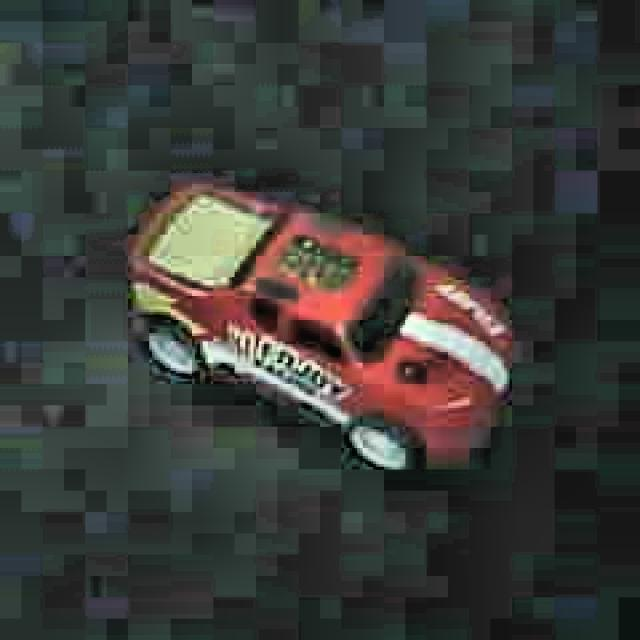car: (120, 176, 515, 478)
